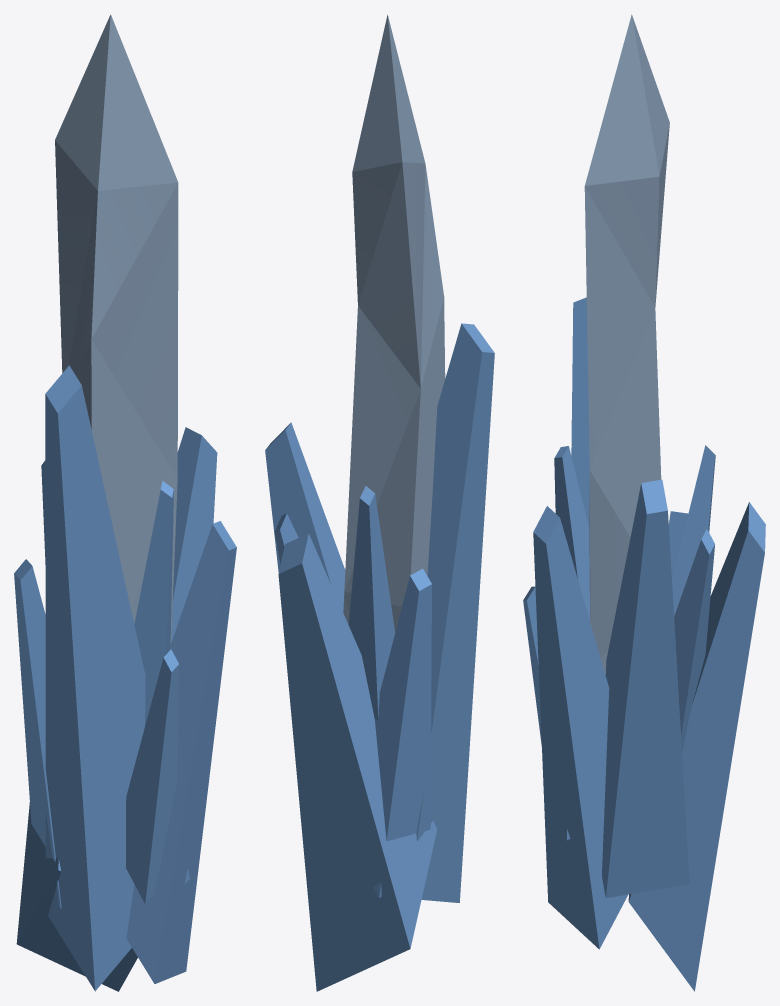
Rendered from ice_spike.glb.
3 views of the same model, side by side, from view 1: azimuth 30°, elevation 25°; view 2: azimuth 150°, elevation 25°; view 3: azimuth 270°, elevation 25° (orthographic). The views are drawn at different scales.
Visible parts, largest first — view 1: IceColumn_lambert3_0; view 2: IceColumn_lambert3_0; view 3: IceColumn_lambert3_0.
Boxes of the visible parts, left/top/right/bottom form: IceColumn_lambert3_0: left=14, top=14, right=236, bottom=991; IceColumn_lambert3_0: left=265, top=14, right=494, bottom=991; IceColumn_lambert3_0: left=523, top=14, right=765, bottom=991.
Size of the model in its own units: 3.26 by 15.99 by 3.67.
